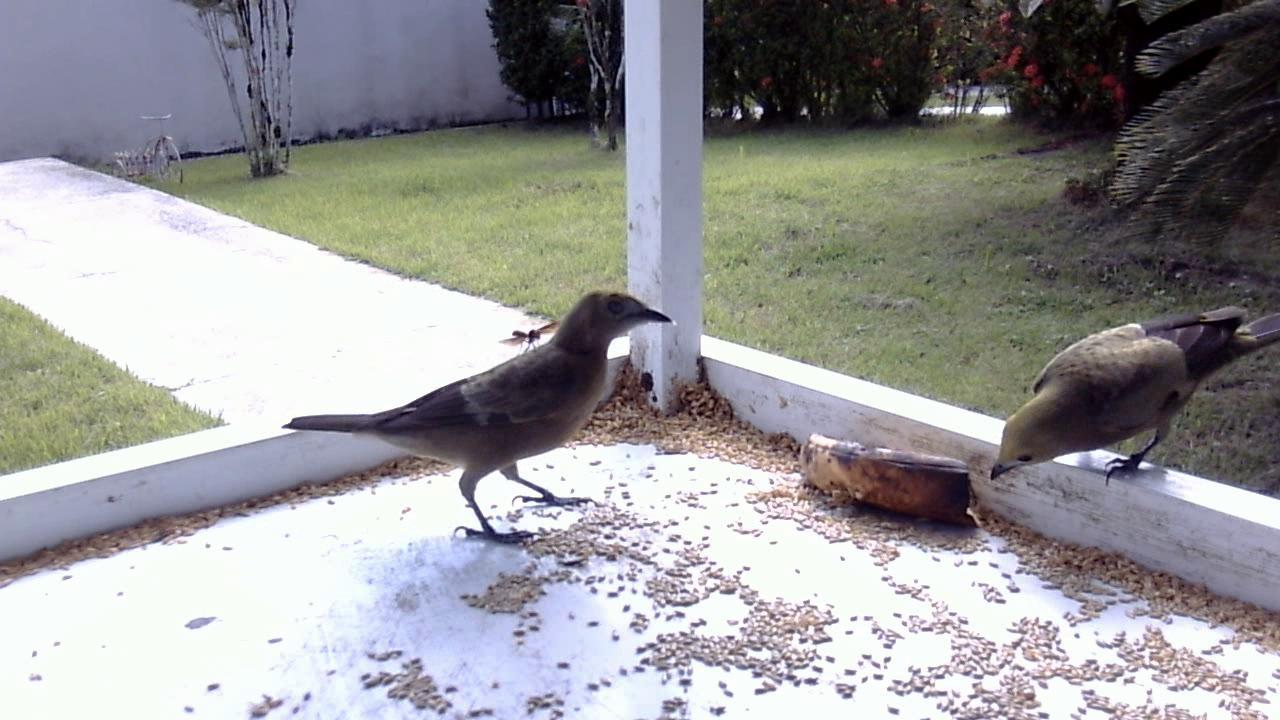sanhaco_do_coqueiro: (285, 286, 679, 552), (983, 294, 1276, 507)
